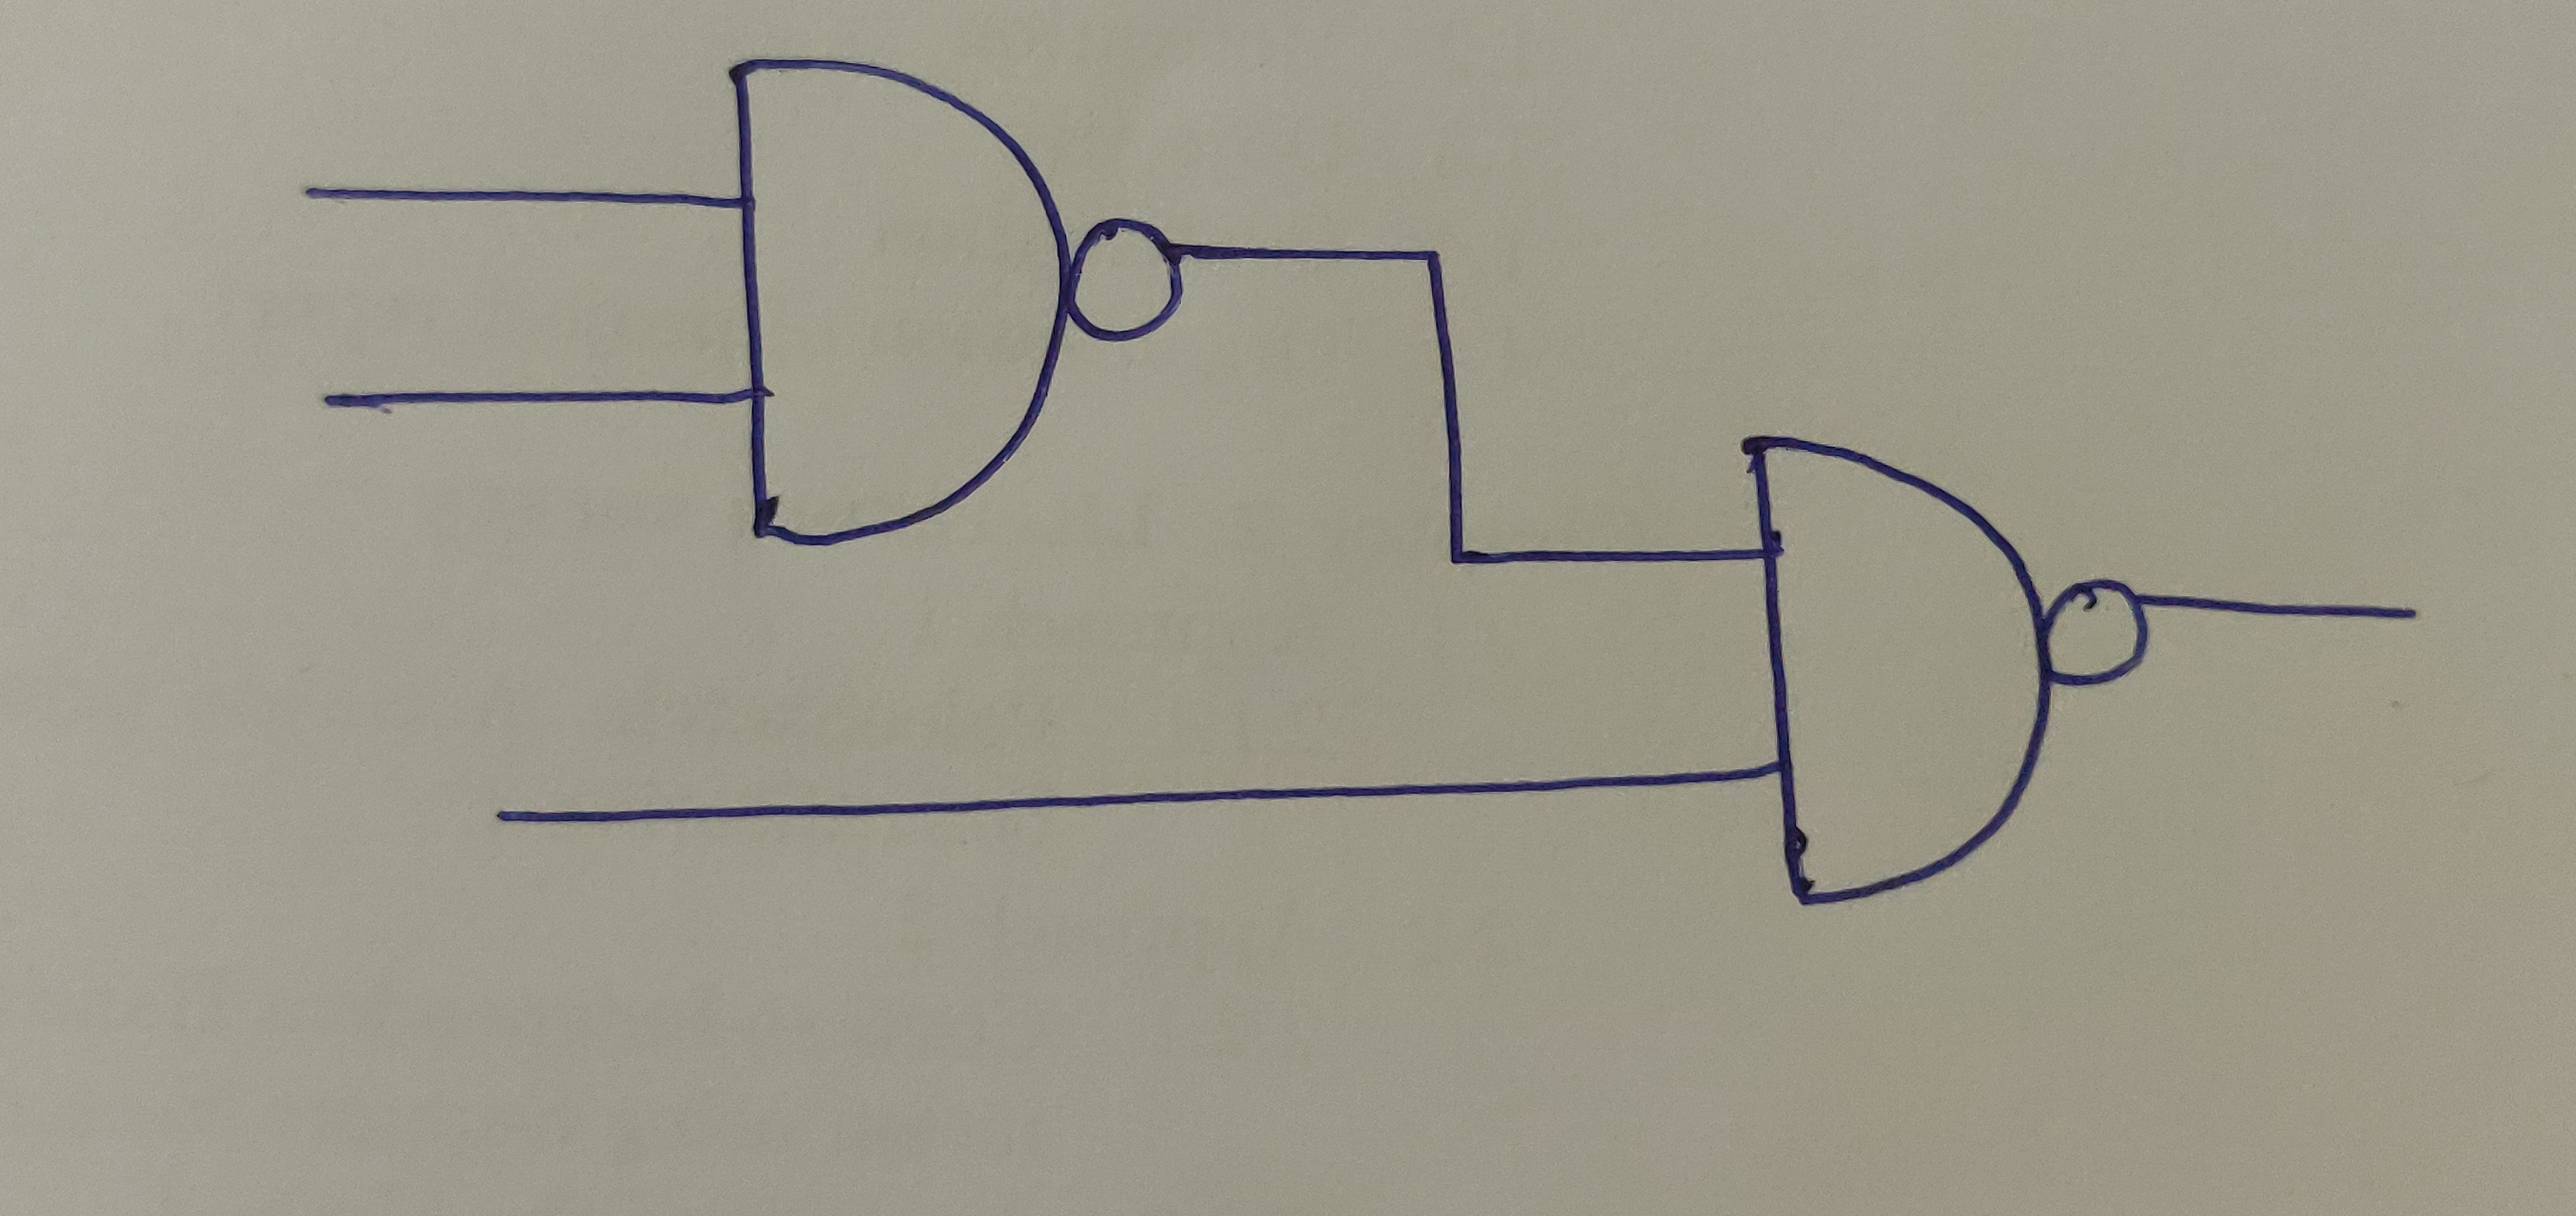and: (724, 54, 1074, 537), (1740, 429, 2054, 904)
not: (2040, 569, 2155, 697), (1066, 222, 1181, 348)
